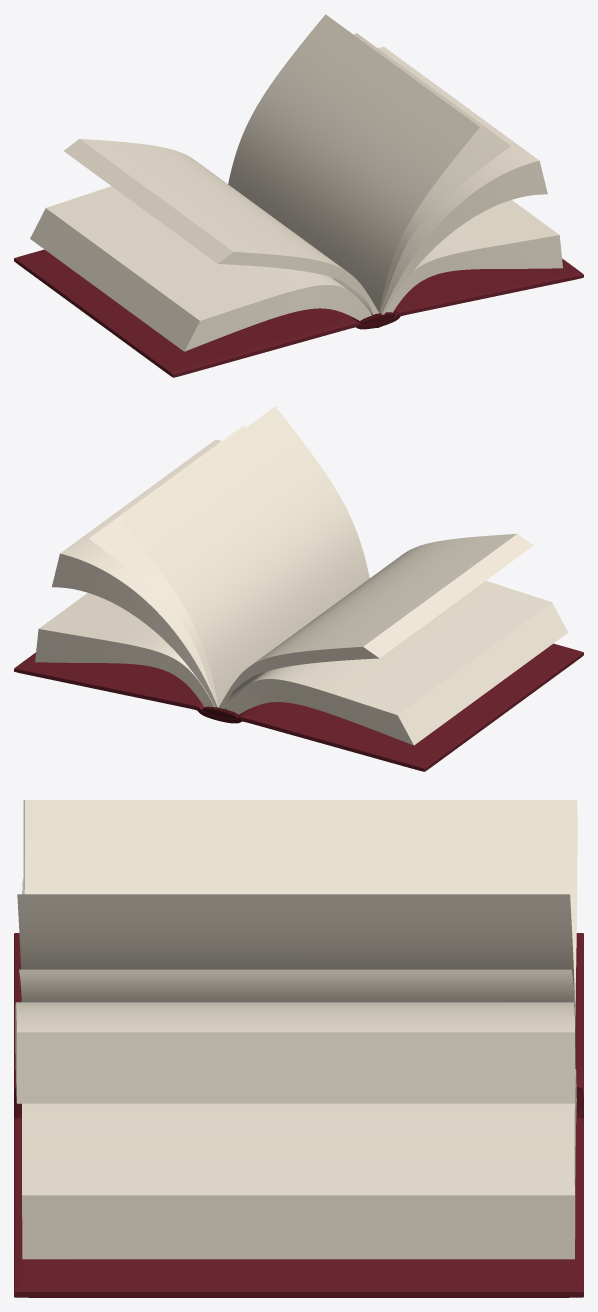
File: book.fbx
3 views of the same model, one above another, from view 1: azimuth 30°, elevation 25°; view 2: azimuth 150°, elevation 25°; view 3: azimuth 270°, elevation 25° (orthographic). The views are drawn at different scales.
Visible parts, largest first — view 1: BézierCurve.001, Cube.002; view 2: BézierCurve.001, Cube.002; view 3: BézierCurve.001, Cube.002.
Part boxes in pixels (x1,y1,x2,y2): BézierCurve.001: [30, 14, 562, 351]; Cube.002: [14, 249, 583, 377]; BézierCurve.001: [35, 406, 568, 745]; Cube.002: [14, 643, 583, 771]; BézierCurve.001: [15, 800, 577, 1259]; Cube.002: [14, 933, 583, 1297].
Bounding box in the file's own units: 452 × 184 × 303.
